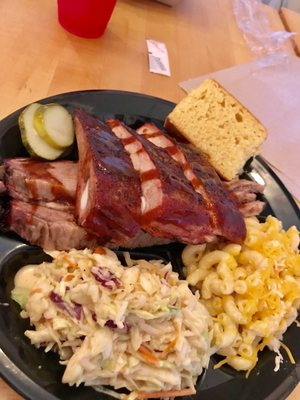soup: (162, 78, 269, 205)
